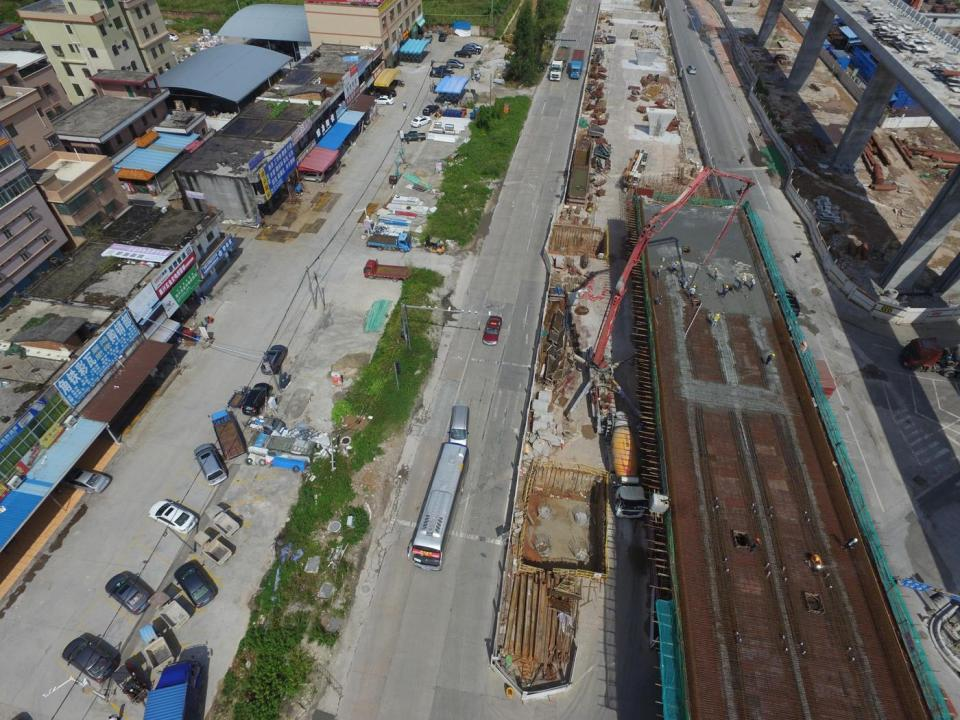bus: (409, 442, 472, 573)
car: (64, 636, 113, 680), (173, 560, 216, 610), (105, 571, 151, 616), (150, 500, 196, 535), (196, 444, 226, 484), (67, 469, 110, 494), (246, 382, 274, 416), (262, 345, 289, 374), (484, 316, 503, 346), (780, 292, 800, 318), (298, 170, 324, 182), (410, 116, 431, 127), (432, 65, 455, 74), (423, 104, 440, 116), (374, 95, 394, 105), (446, 57, 464, 68), (463, 46, 481, 54), (378, 88, 396, 96), (430, 71, 450, 78), (466, 43, 484, 50), (454, 50, 471, 57), (686, 66, 697, 74), (424, 34, 432, 43), (439, 33, 447, 41)
truck: (143, 661, 204, 719), (900, 336, 960, 376), (211, 408, 244, 461), (806, 354, 836, 402), (365, 258, 413, 280), (370, 233, 412, 253), (550, 44, 570, 81), (568, 49, 587, 80), (402, 132, 426, 141)
van: (447, 405, 470, 445)
